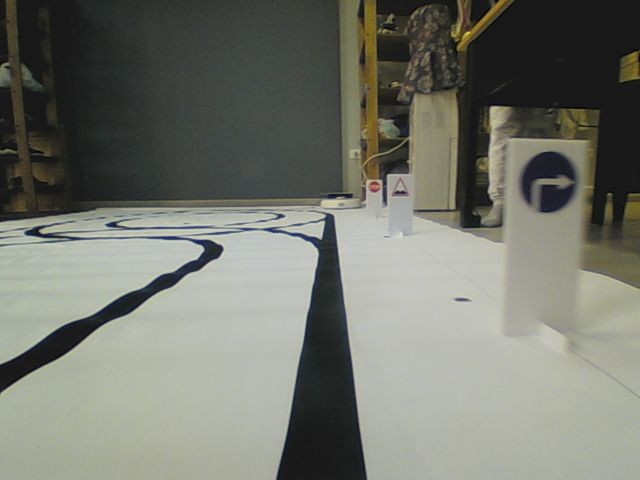Nerov: (391, 176, 410, 197)
Right: (519, 149, 578, 214)
